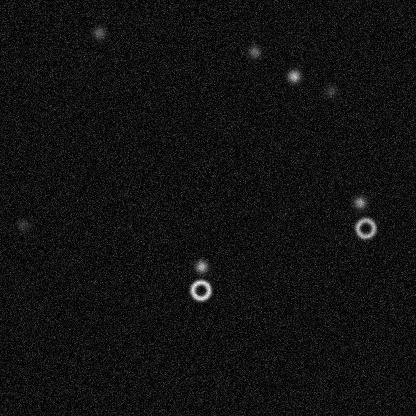Ring: (353, 216, 377, 240), (188, 278, 212, 302)
Spot: (246, 43, 262, 59), (285, 68, 301, 84), (14, 216, 30, 232), (193, 258, 209, 274), (351, 194, 367, 210), (322, 82, 338, 98), (90, 24, 106, 40)
